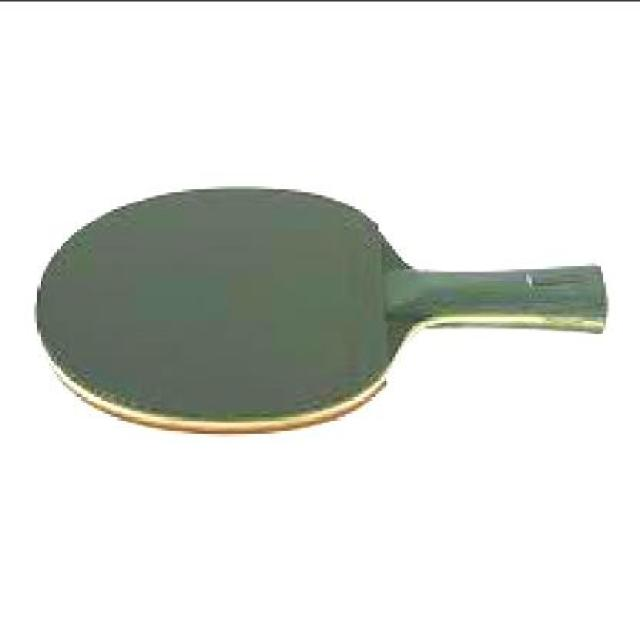table_tennis_racket: (28, 178, 420, 437)
